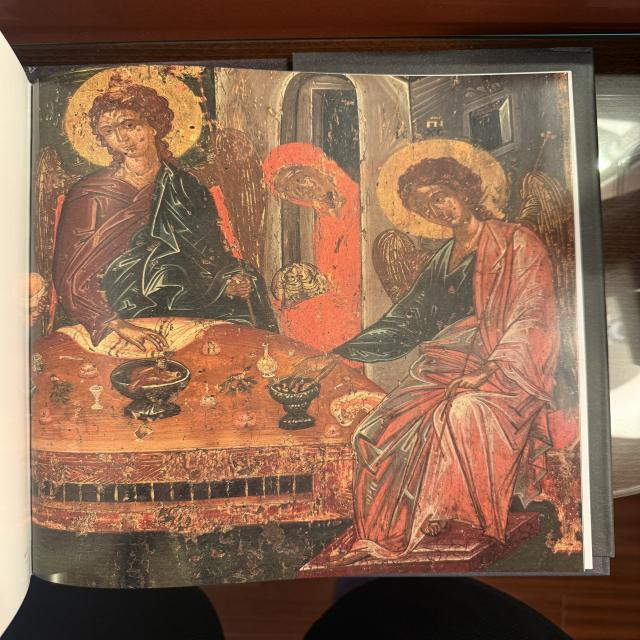angel: (340, 122, 579, 547), (35, 68, 280, 332)
aura: (62, 70, 207, 165), (375, 139, 515, 237)
chalice: (108, 356, 191, 426), (263, 370, 340, 443)
scepter: (379, 130, 564, 546)
wing: (516, 168, 580, 371), (201, 125, 272, 291), (353, 233, 443, 298), (37, 146, 77, 274)
